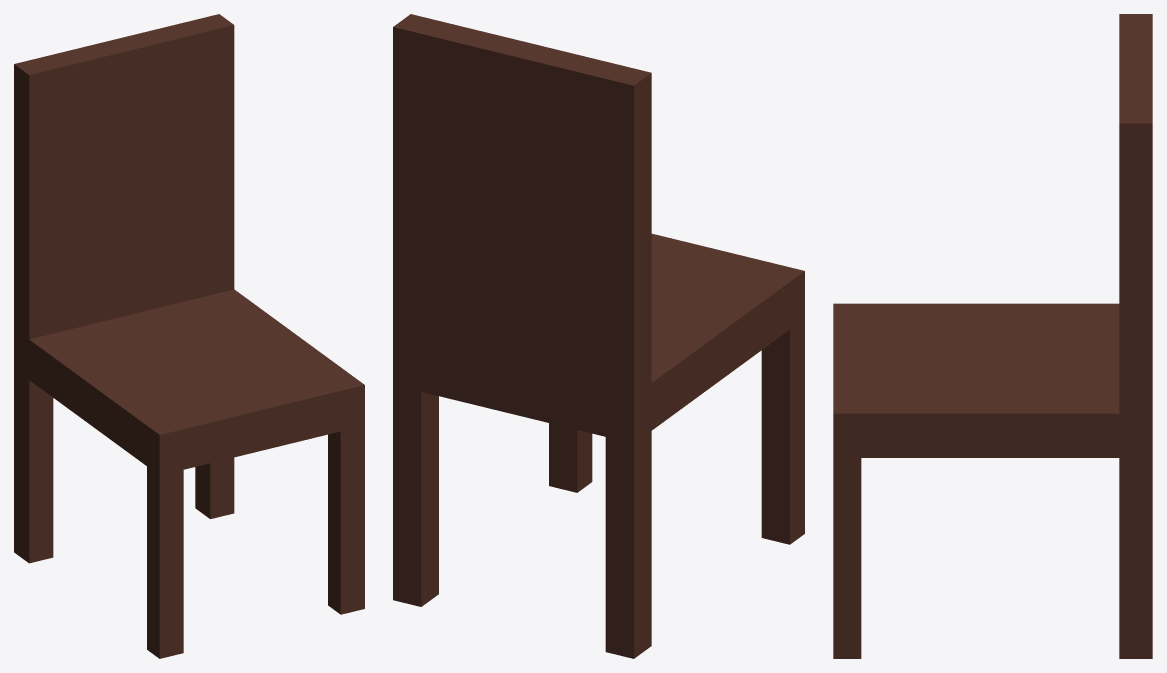
Rendered from Mutfak_Sandalyesi.fbx.
3 renders of one model, left to right at view 1: azimuth 30°, elevation 25°; view 2: azimuth 150°, elevation 25°; view 3: azimuth 270°, elevation 25°, orthographic. The views are drawn at different scales.
Visible parts, largest first — view 1: Mutfak_Sandalye; view 2: Mutfak_Sandalye; view 3: Mutfak_Sandalye.
Part boxes in pixels (x1,y1,x2,y2): Mutfak_Sandalye: [14, 14, 364, 658]; Mutfak_Sandalye: [393, 14, 804, 658]; Mutfak_Sandalye: [833, 14, 1152, 658].
Size of the model in its own units: 74.62 by 170 by 91.71.
